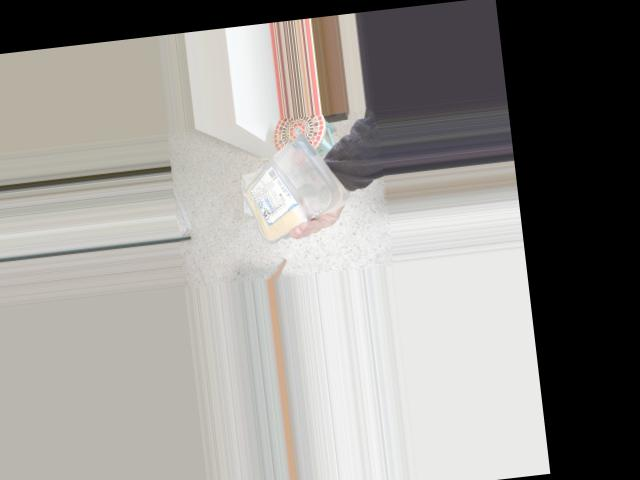cheese: (228, 129, 345, 233)
